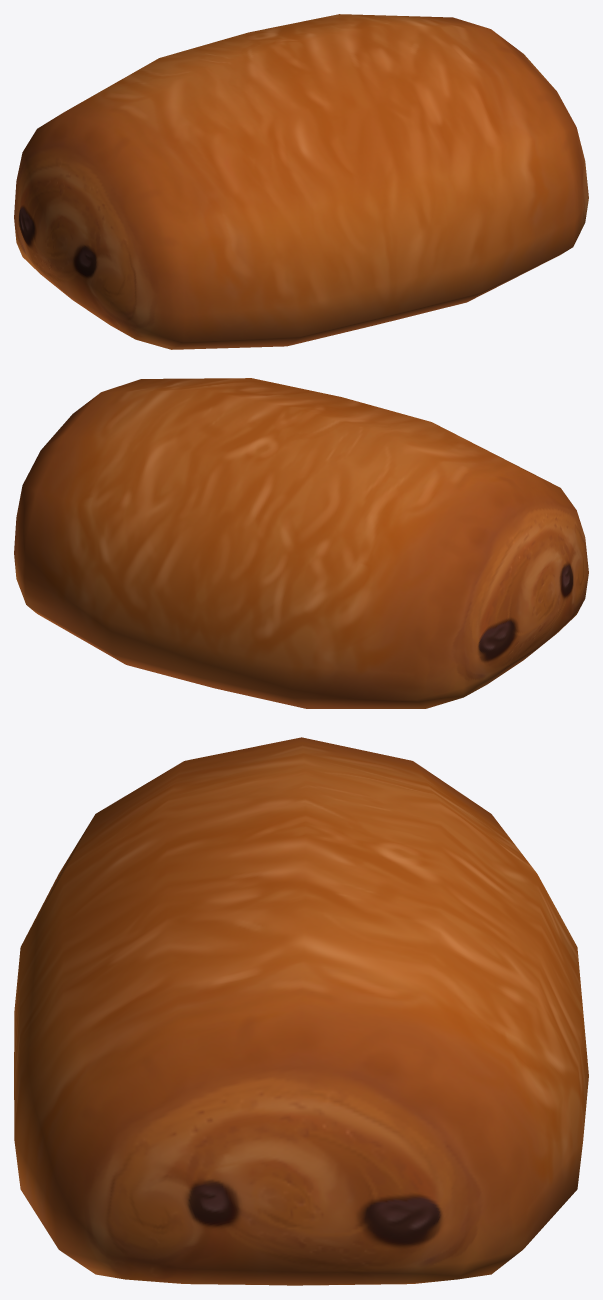
File: painauchocolat.fbx
3 renders of one model, top to bottom at view 1: azimuth 30°, elevation 25°; view 2: azimuth 150°, elevation 25°; view 3: azimuth 270°, elevation 25°, orthographic. The views are drawn at different scales.
Parts seen in each view (by area): view 1: painauchocolat; view 2: painauchocolat; view 3: painauchocolat.
Boxes of the visible parts, left/top/right/bottom form: painauchocolat: left=14, top=14, right=588, bottom=349; painauchocolat: left=14, top=378, right=588, bottom=708; painauchocolat: left=14, top=737, right=588, bottom=1285.
Size of the model in its own units: 32.18 by 14.23 by 21.81.
